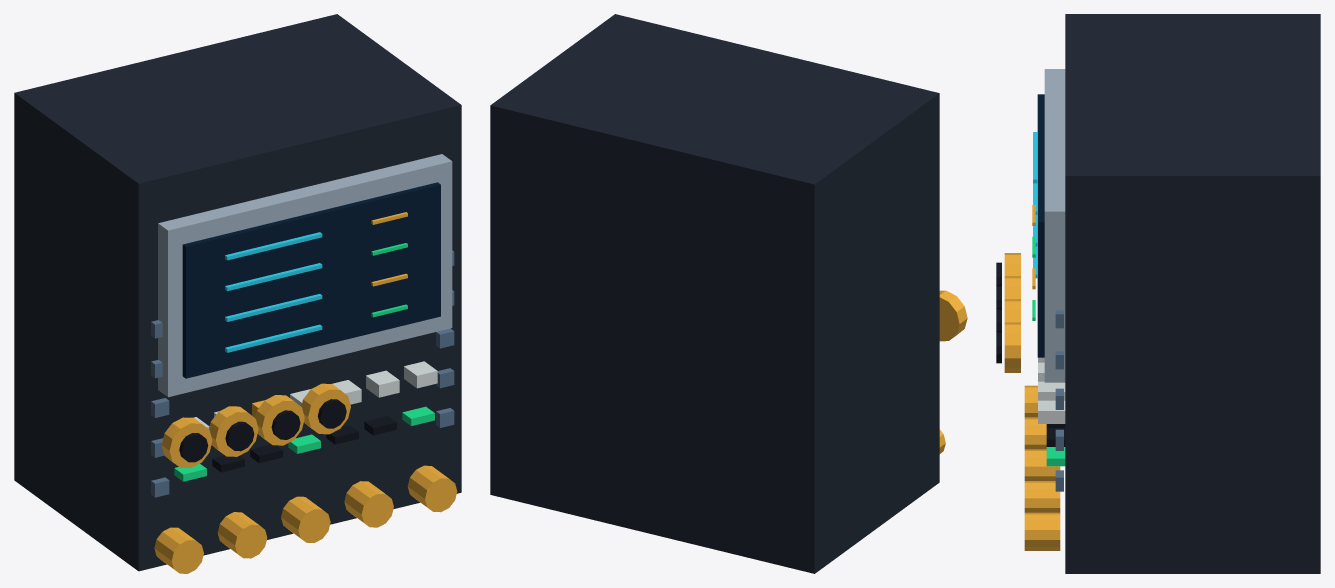
File: 35_L86_RobotTrajectorySafetySupervisor.fbx
The picture shows the model from 3 angles, left to right: view 1: azimuth 30°, elevation 25°; view 2: azimuth 150°, elevation 25°; view 3: azimuth 270°, elevation 25°; orthographic projection. The views are drawn at different scales.
Visible parts, largest first — view 1: L86_RobotTrajectorySafetySupervisor, L86_RobotTrajectorySafetySupervisor_Part_0009, L86_RobotTrajectorySafetySupervisor_Part_0015, L86_RobotTrajectorySafetySupervisor_Part_0013, L86_RobotTrajectorySafetySupervisor_Part_0011, L86_RobotTrajectorySafetySupervisor_Part_0010, L86_RobotTrajectorySafetySupervisor_Part_0014, L86_RobotTrajectorySafetySupervisor_Part_0016, L86_RobotTrajectorySafetySupervisor_Part_0012; view 2: L86_RobotTrajectorySafetySupervisor, L86_RobotTrajectorySafetySupervisor_Part_0009; view 3: L86_RobotTrajectorySafetySupervisor, L86_RobotTrajectorySafetySupervisor_Part_0015.
Part boxes in pixels (x1,y1,x2,y2): L86_RobotTrajectorySafetySupervisor: (14,14,461,573); L86_RobotTrajectorySafetySupervisor_Part_0009: (161,417,212,468); L86_RobotTrajectorySafetySupervisor_Part_0015: (301,383,350,434); L86_RobotTrajectorySafetySupervisor_Part_0013: (255,395,304,445); L86_RobotTrajectorySafetySupervisor_Part_0011: (209,406,258,456); L86_RobotTrajectorySafetySupervisor_Part_0010: (179,433,208,462); L86_RobotTrajectorySafetySupervisor_Part_0014: (271,410,300,439); L86_RobotTrajectorySafetySupervisor_Part_0016: (317,399,346,428); L86_RobotTrajectorySafetySupervisor_Part_0012: (225,421,254,451); L86_RobotTrajectorySafetySupervisor: (490,14,945,573); L86_RobotTrajectorySafetySupervisor_Part_0009: (939,290,967,341); L86_RobotTrajectorySafetySupervisor: (1024,14,1320,573); L86_RobotTrajectorySafetySupervisor_Part_0015: (1004,322,1020,372).
Bounding box in the file's own units: 97.92 × 112 × 82.84.
